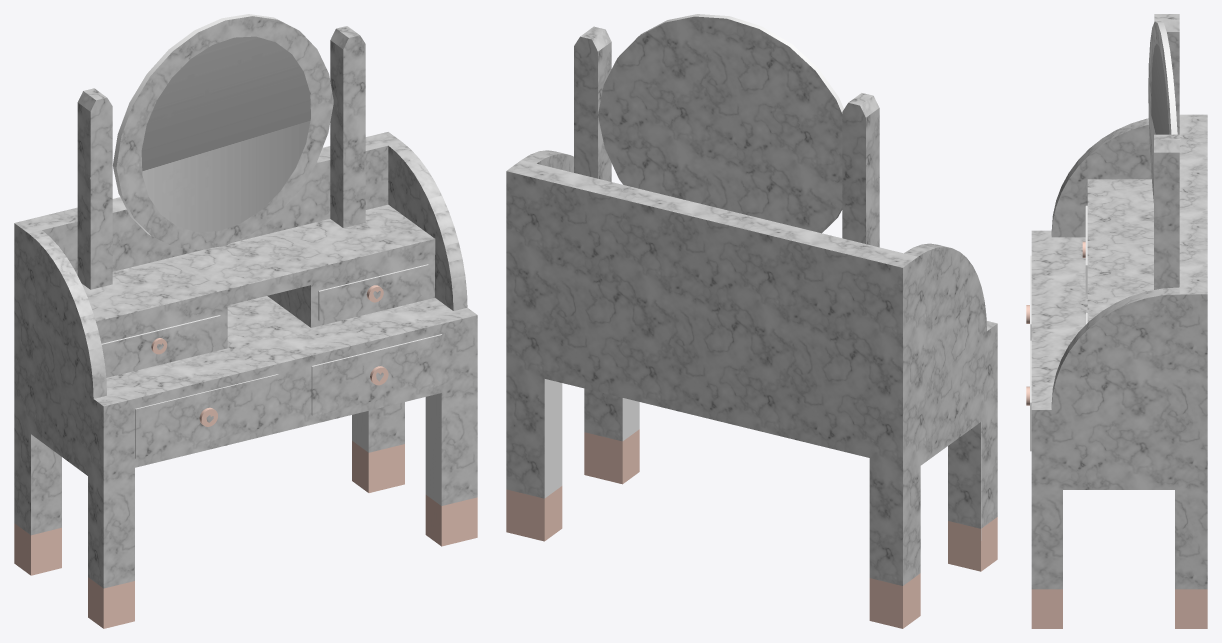
File: dressing_table_3.glb
3 renders of one model, left to right at view 1: azimuth 30°, elevation 25°; view 2: azimuth 150°, elevation 25°; view 3: azimuth 270°, elevation 25°, orthographic. The views are drawn at different scales.
Visible parts, largest first — view 1: Mesh1_Carrera_Marble_0, Mesh1_Mirror_01_0, Mesh1_Color_B02_0, Mesh1_FrontColor_0; view 2: Mesh1_Carrera_Marble_0, Mesh1_Color_B02_0, Mesh1_FrontColor_0; view 3: Mesh1_Carrera_Marble_0, Mesh1_Color_B02_0, Mesh1_FrontColor_0, Mesh1_Mirror_01_0.
Part boxes in pixels (x1=…): Mesh1_Carrera_Marble_0: x1=14, y1=16, x2=477, y2=588; Mesh1_Mirror_01_0: x1=141, y1=36, x2=310, y2=231; Mesh1_Color_B02_0: x1=14, y1=285, x2=477, y2=628; Mesh1_FrontColor_0: x1=88, y1=14, x2=441, y2=545; Mesh1_Carrera_Marble_0: x1=506, y1=16, x2=997, y2=585; Mesh1_Color_B02_0: x1=506, y1=429, x2=997, y2=628; Mesh1_FrontColor_0: x1=544, y1=14, x2=981, y2=540; Mesh1_Carrera_Marble_0: x1=1031, y1=14, x2=1207, y2=589; Mesh1_Color_B02_0: x1=1026, y1=241, x2=1207, y2=628; Mesh1_FrontColor_0: x1=1030, y1=21, x2=1195, y2=451; Mesh1_Mirror_01_0: x1=1151, y1=43, x2=1169, y2=177.
Size of the model in its own units: 121 by 159 by 51.62.
4 materials, 2 textured.
